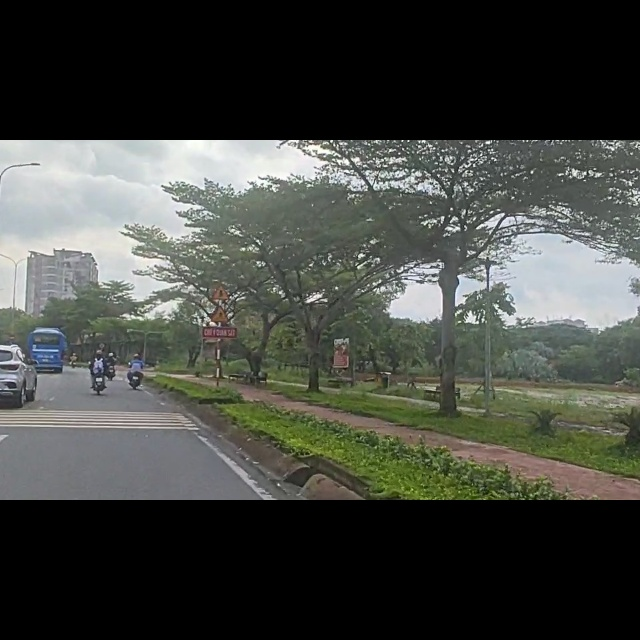bien_nguy_hiem: (208, 293, 231, 326), (211, 254, 232, 286)
